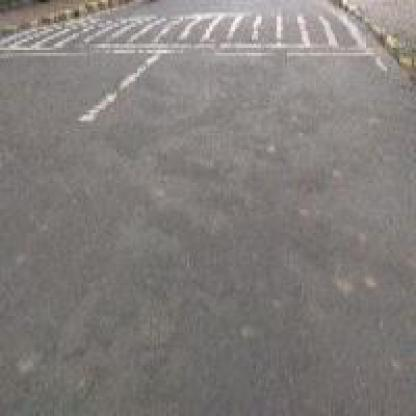Speed Bump: (2, 9, 372, 58)
